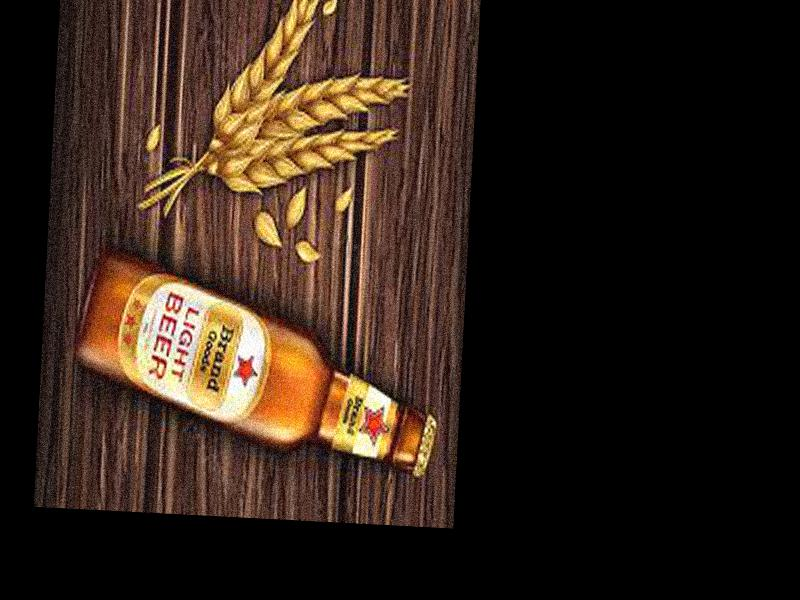Beer: (71, 250, 445, 480)
